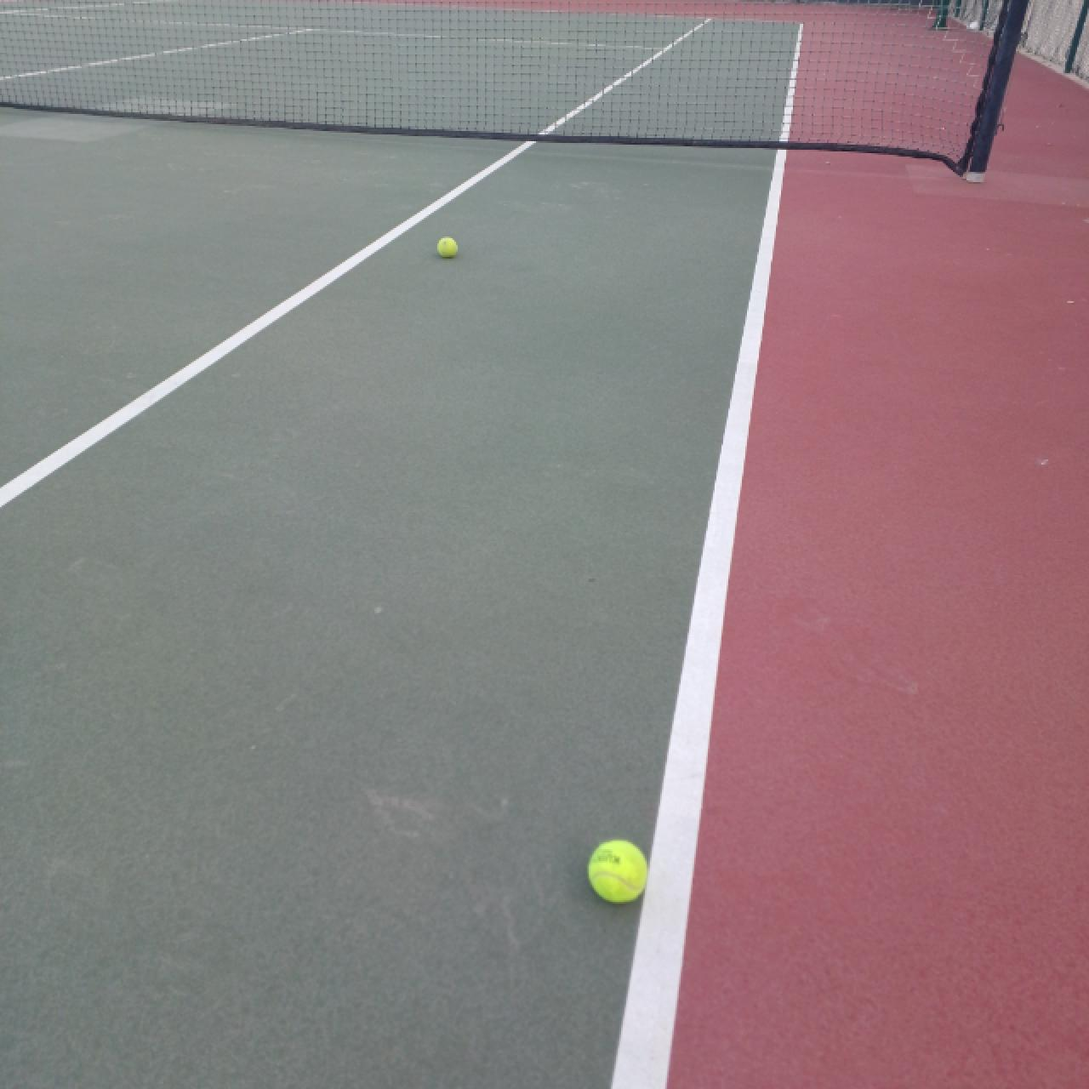tennis-ball: (587, 836, 649, 904), (436, 237, 459, 259)
